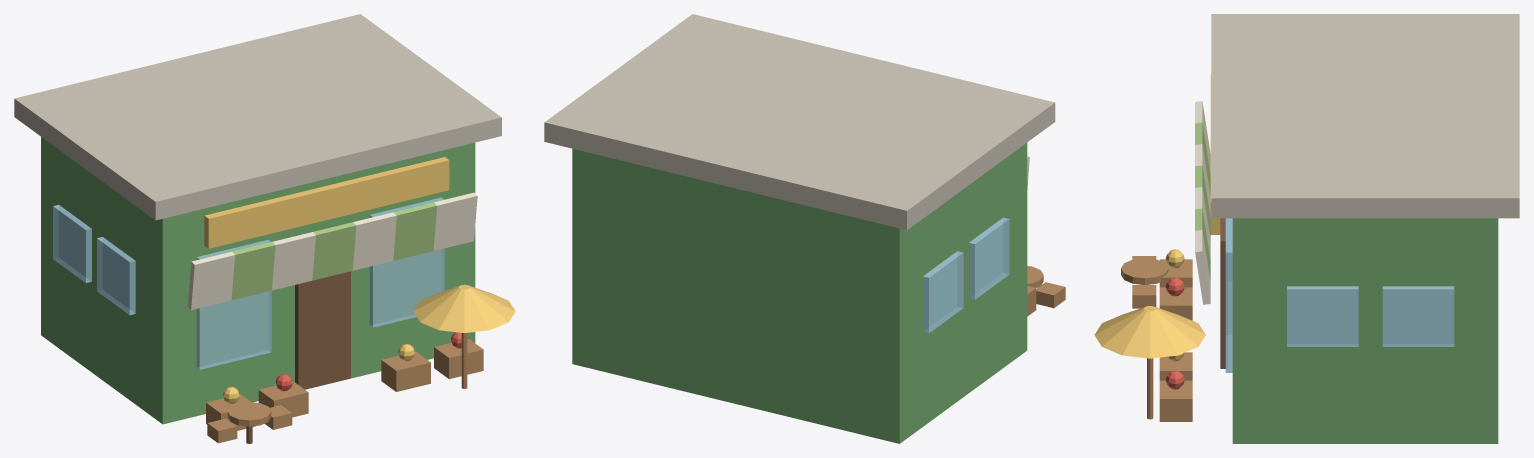
The model's file is corner-cafe-ClfQPSEV.glb.
3 views of the same model, side by side, from view 1: azimuth 30°, elevation 25°; view 2: azimuth 150°, elevation 25°; view 3: azimuth 270°, elevation 25° (orthographic). The views are drawn at different scales.
Parts seen in each view (by area): view 1: Cafe_Roof_Slab, Cafe_Main, Cafe_Sign, Cafe_Door, Cafe_Front_Glass_Left, Cafe_Front_Glass_Right, Cafe_Umbrella, Cafe_Side_Window_-3.82_A, Cafe_Side_Window_-3.82_B, Cafe_Awning_stripe_0, Cafe_Awning_stripe_3, Cafe_Awning_stripe_4 (+11 smaller); view 2: Cafe_Main, Cafe_Roof_Slab, Cafe_Side_Window_-3.82_A, Cafe_Side_Window_-3.82_B, Cafe_Chair_0; view 3: Cafe_Roof_Slab, Cafe_Main, Cafe_Side_Window_3.82_B, Cafe_Side_Window_3.82_A, Cafe_Umbrella, Cafe_Crate_3, Cafe_Front_Glass_Right, Cafe_Table, Cafe_Door, Cafe_Crate_1, Cafe_Awning_stripe_6, Cafe_Crate_2 (+4 smaller).
Part boxes in pixels (x1=…): Cafe_Roof_Slab: x1=14, y1=14, x2=501, y2=220; Cafe_Main: x1=41, y1=137, x2=475, y2=424; Cafe_Sign: x1=204, y1=157, x2=449, y2=248; Cafe_Door: x1=295, y1=271, x2=350, y2=389; Cafe_Front_Glass_Left: x1=196, y1=239, x2=271, y2=369; Cafe_Front_Glass_Right: x1=369, y1=197, x2=444, y2=327; Cafe_Umbrella: x1=413, y1=284, x2=515, y2=332; Cafe_Side_Window_-3.82_A: x1=97, y1=237, x2=135, y2=315; Cafe_Side_Window_-3.82_B: x1=53, y1=204, x2=91, y2=282; Cafe_Awning_stripe_0: x1=187, y1=251, x2=235, y2=310; Cafe_Awning_stripe_3: x1=312, y1=222, x2=356, y2=280; Cafe_Awning_stripe_4: x1=352, y1=212, x2=396, y2=270; Cafe_Main: x1=572, y1=143, x2=1027, y2=443; Cafe_Roof_Slab: x1=544, y1=14, x2=1055, y2=230; Cafe_Side_Window_-3.82_A: x1=969, y1=217, x2=1009, y2=299; Cafe_Side_Window_-3.82_B: x1=923, y1=251, x2=963, y2=333; Cafe_Chair_0: x1=1036, y1=282, x2=1065, y2=308; Cafe_Roof_Slab: x1=1211, y1=14, x2=1519, y2=218; Cafe_Main: x1=1232, y1=218, x2=1498, y2=443; Cafe_Side_Window_3.82_B: x1=1382, y1=286, x2=1454, y2=346; Cafe_Side_Window_3.82_A: x1=1287, y1=286, x2=1358, y2=346; Cafe_Umbrella: x1=1094, y1=306, x2=1205, y2=358; Cafe_Crate_3: x1=1159, y1=380, x2=1192, y2=421; Cafe_Front_Glass_Right: x1=1225, y1=218, x2=1232, y2=372; Cafe_Table: x1=1121, y1=258, x2=1168, y2=284; Cafe_Door: x1=1220, y1=218, x2=1225, y2=368; Cafe_Crate_1: x1=1159, y1=287, x2=1192, y2=320; Cafe_Awning_stripe_6: x1=1195, y1=230, x2=1210, y2=304; Cafe_Crate_2: x1=1159, y1=352, x2=1192, y2=380.
Size of the model in its own units: 8.2 by 5.29 by 8.
